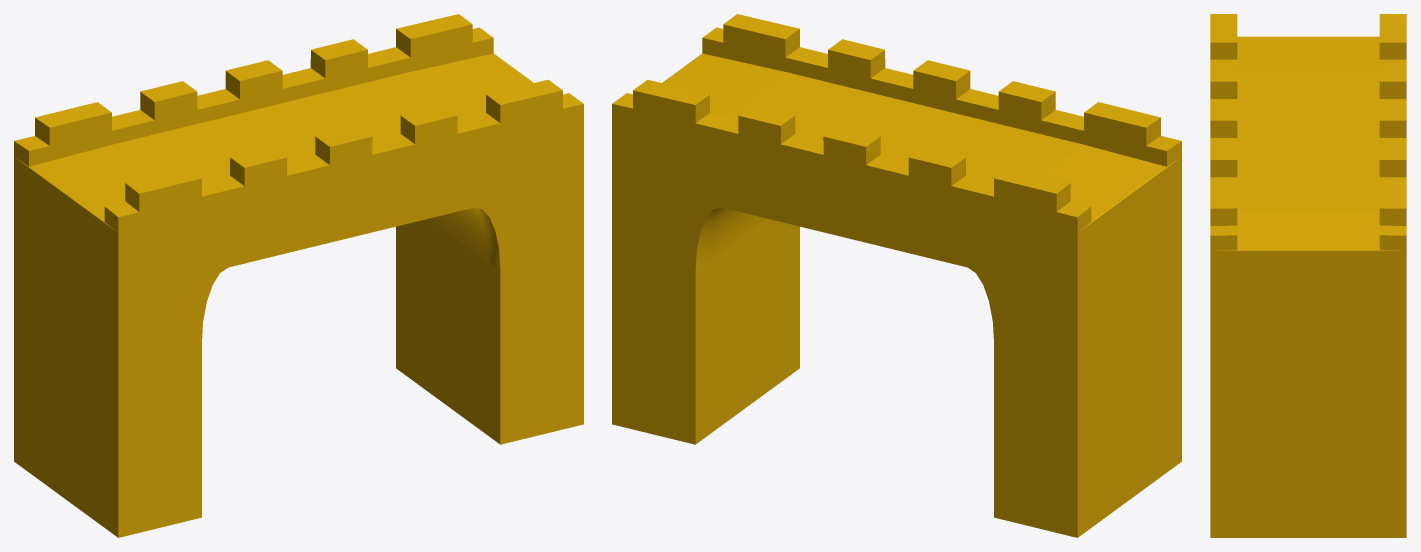
File: SandCastleGate.fbx
3 renders of one model, left to right at view 1: azimuth 30°, elevation 25°; view 2: azimuth 150°, elevation 25°; view 3: azimuth 270°, elevation 25°, orthographic. The views are drawn at different scales.
Parts seen in each view (by area): view 1: Cube.002; view 2: Cube.002; view 3: Cube.002.
Boxes of the visible parts, bbox=[...] form: Cube.002: bbox=[14, 14, 583, 537]; Cube.002: bbox=[612, 14, 1181, 537]; Cube.002: bbox=[1210, 14, 1406, 537].
Size of the model in its own units: 391 by 273 by 152.
